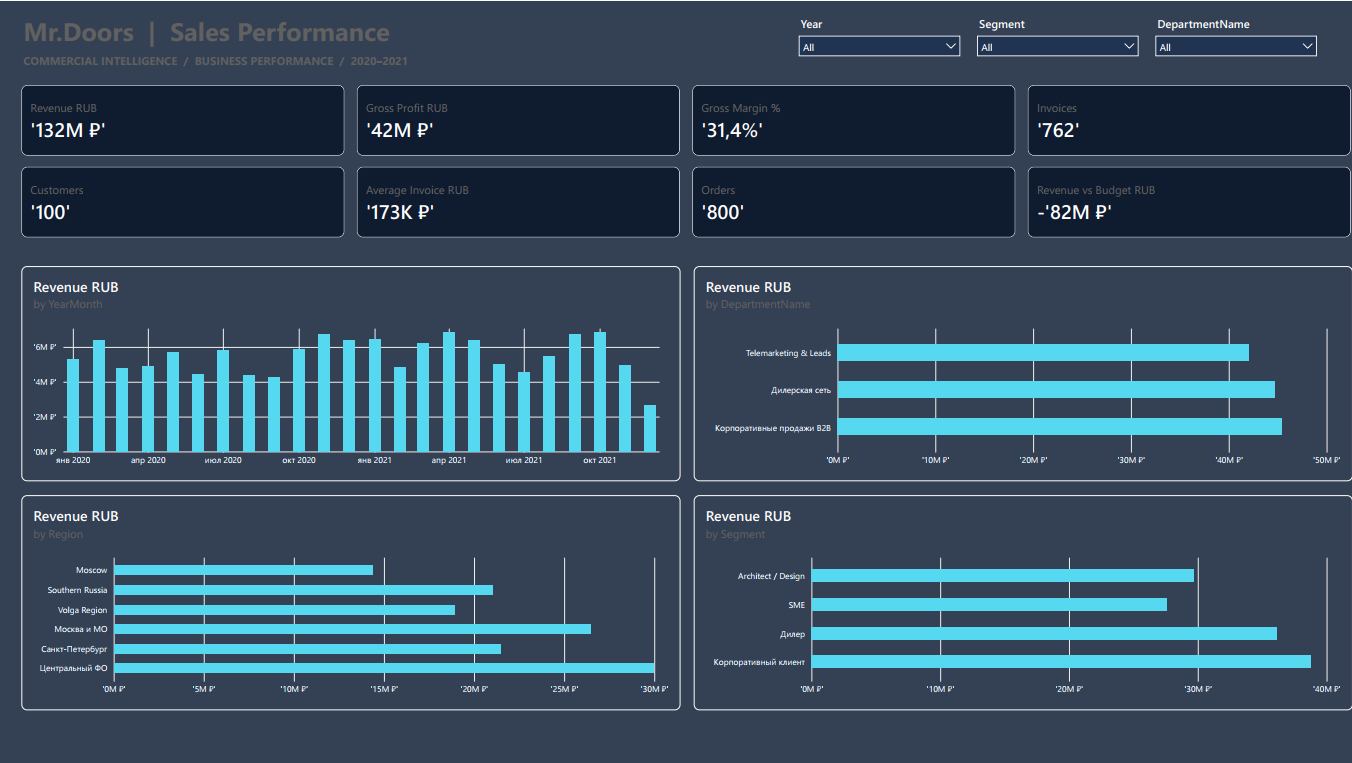

Layout of this report page (visuals, bound fields, positions):
{"tool":"powerbi","page":{"name":"02 | Sales Performance","canvas":[1920,1080],"ordinal":1},"visuals":[{"type":"slicer","fields":{"Values":["DimDate.Year"]},"box":[1130,20,239,80],"z":10},{"type":"slicer","fields":{"Values":["DimCustomer.Segment"]},"box":[1383,20,239,80],"z":10},{"type":"slicer","fields":{"Values":["DimDepartment.DepartmentName"]},"box":[1636,20,239,80],"z":10},{"type":"cardVisual","fields":{"Data":["FactSales.Revenue RUB"]},"box":[32,118,458,100],"z":10},{"type":"cardVisual","fields":{"Data":["FactSales.Gross Profit RUB"]},"box":[508,118,458,100],"z":10},{"type":"cardVisual","fields":{"Data":["FactSales.Gross Margin %"]},"box":[984,118,458,100],"z":10},{"type":"cardVisual","fields":{"Data":["FactSales.Invoices"]},"box":[1460,118,458,100],"z":10},{"type":"cardVisual","fields":{"Data":["FactSales.Customers"]},"box":[32,234,458,100],"z":10},{"type":"cardVisual","fields":{"Data":["FactSales.Average Invoice RUB"]},"box":[508,234,458,100],"z":10},{"type":"cardVisual","fields":{"Data":["FactSales.Orders"]},"box":[984,234,458,100],"z":10},{"type":"cardVisual","fields":{"Data":["FactSales.Revenue vs Budget RUB"]},"box":[1460,234,458,100],"z":10},{"type":"clusteredColumnChart","fields":{"Category":["DimDate.YearMonth"],"Y":["FactSales.Revenue RUB"]},"box":[32,375,935,305],"z":10},{"type":"clusteredBarChart","fields":{"Category":["DimDepartment.DepartmentName"],"Y":["FactSales.Revenue RUB"]},"box":[986,375,935,305],"z":10},{"type":"clusteredBarChart","fields":{"Category":["DimCustomer.Region"],"Y":["FactSales.Revenue RUB"]},"box":[32,700,935,305],"z":10},{"type":"clusteredBarChart","fields":{"Category":["DimCustomer.Segment"],"Y":["FactSales.Revenue RUB"]},"box":[986,700,935,305],"z":10},{"type":"textbox","box":[35,16,1050,55],"z":15000},{"type":"textbox","box":[35,72,1050,32],"z":15000}]}

Visuals, with their boxes in screenshot pixels (x1, y1, x2, y2), scaled from the page's 1920x1080 canvas onto the 1352x763 screenshot:
slicer - DimDate.Year: [x1=796, y1=14, x2=964, y2=71]
slicer - DimCustomer.Segment: [x1=974, y1=14, x2=1142, y2=71]
slicer - DimDepartment.DepartmentName: [x1=1152, y1=14, x2=1320, y2=71]
cardVisual - FactSales.Revenue RUB: [x1=23, y1=83, x2=345, y2=154]
cardVisual - FactSales.Gross Profit RUB: [x1=358, y1=83, x2=680, y2=154]
cardVisual - FactSales.Gross Margin %: [x1=693, y1=83, x2=1015, y2=154]
cardVisual - FactSales.Invoices: [x1=1028, y1=83, x2=1351, y2=154]
cardVisual - FactSales.Customers: [x1=23, y1=165, x2=345, y2=236]
cardVisual - FactSales.Average Invoice RUB: [x1=358, y1=165, x2=680, y2=236]
cardVisual - FactSales.Orders: [x1=693, y1=165, x2=1015, y2=236]
cardVisual - FactSales.Revenue vs Budget RUB: [x1=1028, y1=165, x2=1351, y2=236]
clusteredColumnChart - DimDate.YearMonth x FactSales.Revenue RUB: [x1=23, y1=265, x2=681, y2=480]
clusteredBarChart - DimDepartment.DepartmentName x FactSales.Revenue RUB: [x1=694, y1=265, x2=1351, y2=480]
clusteredBarChart - DimCustomer.Region x FactSales.Revenue RUB: [x1=23, y1=495, x2=681, y2=710]
clusteredBarChart - DimCustomer.Segment x FactSales.Revenue RUB: [x1=694, y1=495, x2=1351, y2=710]
textbox: [x1=25, y1=11, x2=764, y2=50]
textbox: [x1=25, y1=51, x2=764, y2=73]
